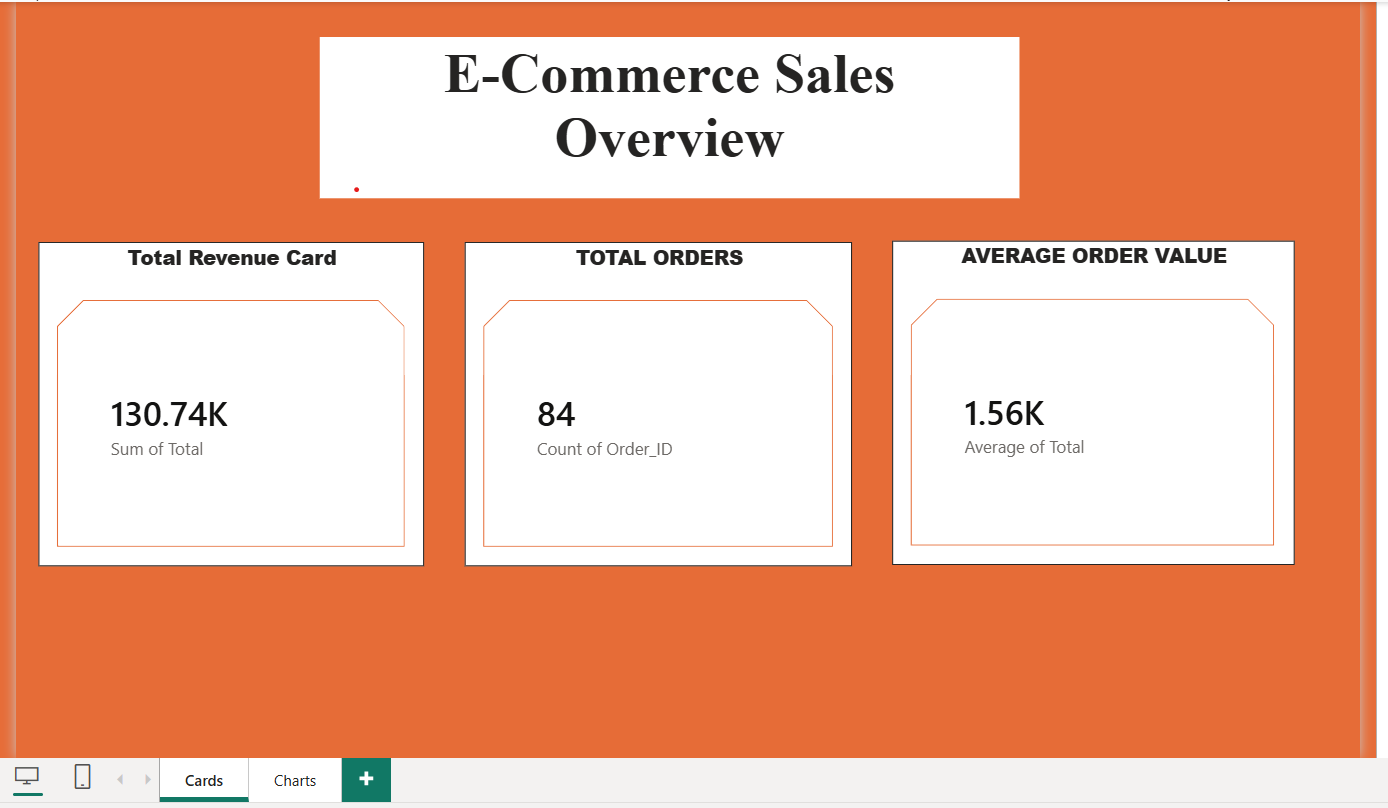

This screenshot's page, from the dashboard's own definition file:
{"tool":"powerbi","page":{"name":"Cards","canvas":[1280,720],"ordinal":0},"visuals":[{"type":"cardVisual","title":"Total Revenue Card","fields":{"Data":["Sum(ecommerce_sales ecommerce_sales.Total)"]},"box":[22,228,367,309],"z":0},{"type":"cardVisual","title":"TOTAL ORDERS","fields":{"Data":["CountNonNull(ecommerce_sales ecommerce_sales.Order_ID)"]},"box":[427,228,369.1,308.7],"z":1000},{"type":"cardVisual","title":"AVERAGE ORDER VALUE","fields":{"Data":["Avg(ecommerce_sales ecommerce_sales.Total)"]},"box":[835,227,382.8,308.7],"z":2000},{"type":"textbox","box":[289.8,33,666.2,153.9],"z":3000}]}

Visuals, with their boxes on the page's 1280x720 design canvas (x1, y1, x2, y2). These are canvas units, not pixel positions in the 1388x808 screenshot, which may show the page scaled, cropped or inside an application window:
"Total Revenue Card" cardVisual: 22, 228, 389, 537
"TOTAL ORDERS" cardVisual: 427, 228, 796, 537
"AVERAGE ORDER VALUE" cardVisual: 835, 227, 1218, 536
textbox: 290, 33, 956, 187
